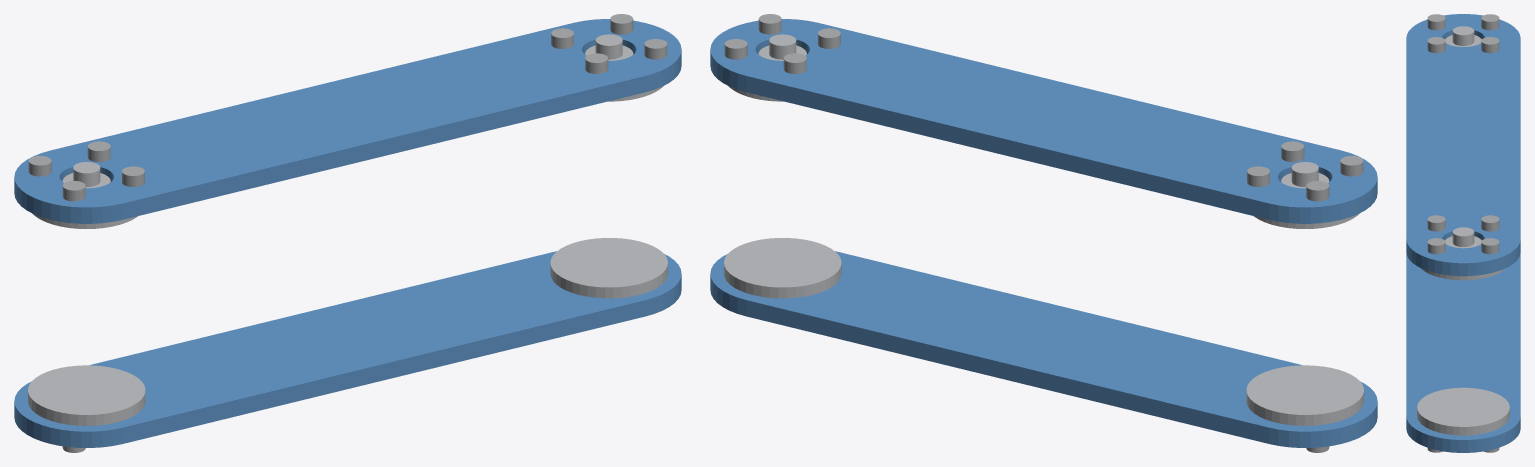
File: hip_pitch.glb
3 views of the same model, side by side, from view 1: azimuth 30°, elevation 25°; view 2: azimuth 150°, elevation 25°; view 3: azimuth 270°, elevation 25° (orthographic). The views are drawn at different scales.
Visible parts, largest first — view 1: geometry_20, geometry_1, geometry_3, geometry_0, geometry_2; view 2: geometry_20, geometry_1, geometry_3, geometry_0, geometry_2; view 3: geometry_20, geometry_3, geometry_2, geometry_0, geometry_9, geometry_10, geometry_5, geometry_6, geometry_8, geometry_11, geometry_4, geometry_7.
Part boxes in pixels (box(x1,y1,x2,y2)): geometry_20: box(14, 19, 681, 447); geometry_1: box(28, 365, 145, 425); geometry_3: box(550, 238, 667, 298); geometry_0: box(32, 162, 137, 228); geometry_2: box(585, 34, 663, 101); geometry_20: box(710, 19, 1377, 447); geometry_1: box(1246, 365, 1363, 425); geometry_3: box(724, 238, 841, 298); geometry_0: box(1254, 162, 1359, 228); geometry_2: box(728, 34, 806, 101); geometry_20: box(1406, 14, 1520, 452); geometry_3: box(1417, 387, 1509, 435); geometry_2: box(1421, 227, 1505, 280); geometry_0: box(1445, 26, 1481, 46); geometry_9: box(1427, 215, 1445, 231); geometry_10: box(1481, 215, 1499, 231); geometry_5: box(1427, 14, 1445, 30); geometry_6: box(1481, 14, 1499, 30); geometry_8: box(1427, 238, 1445, 254); geometry_11: box(1481, 238, 1499, 254); geometry_4: box(1427, 37, 1445, 53); geometry_7: box(1481, 37, 1499, 53).
Bounding box in the file's own units: 0.1239 × 0.048 × 0.024.
